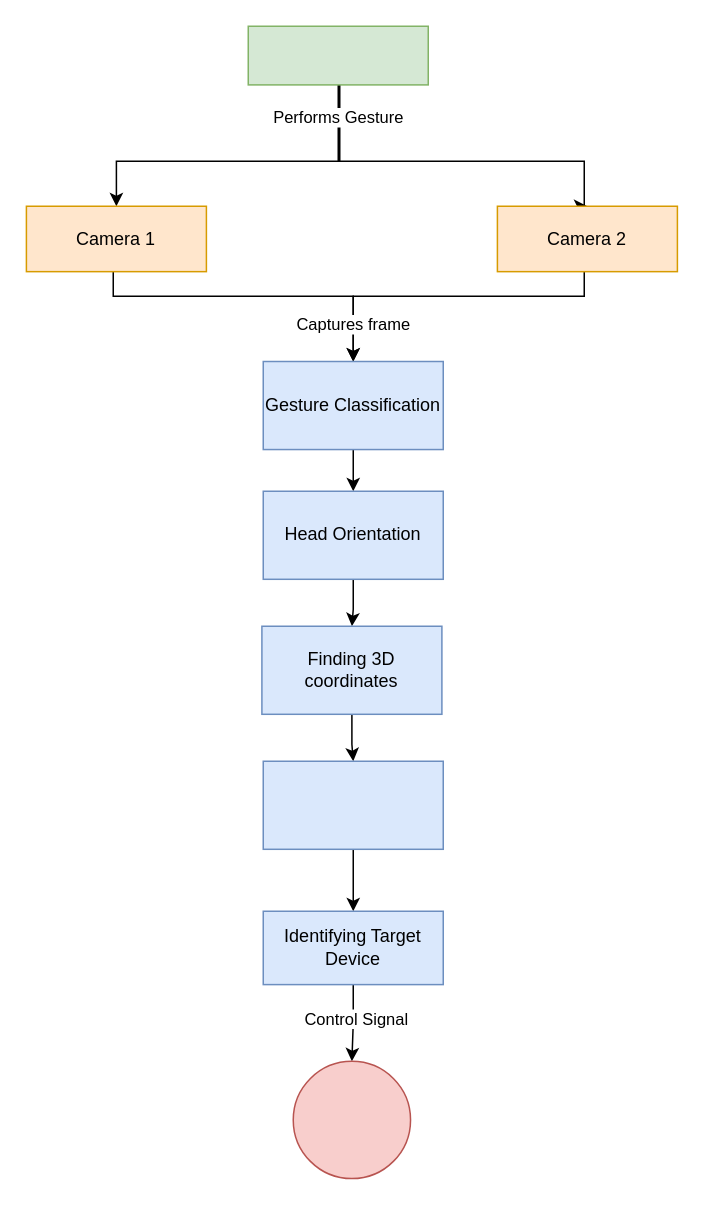
Image size: 704x1206. Some labels were removed from this diagram. Each missing label, with the centre of its shape:
Calculate Line of Sight: (352,804)
Device: (351,1119)
User: (337,55)
